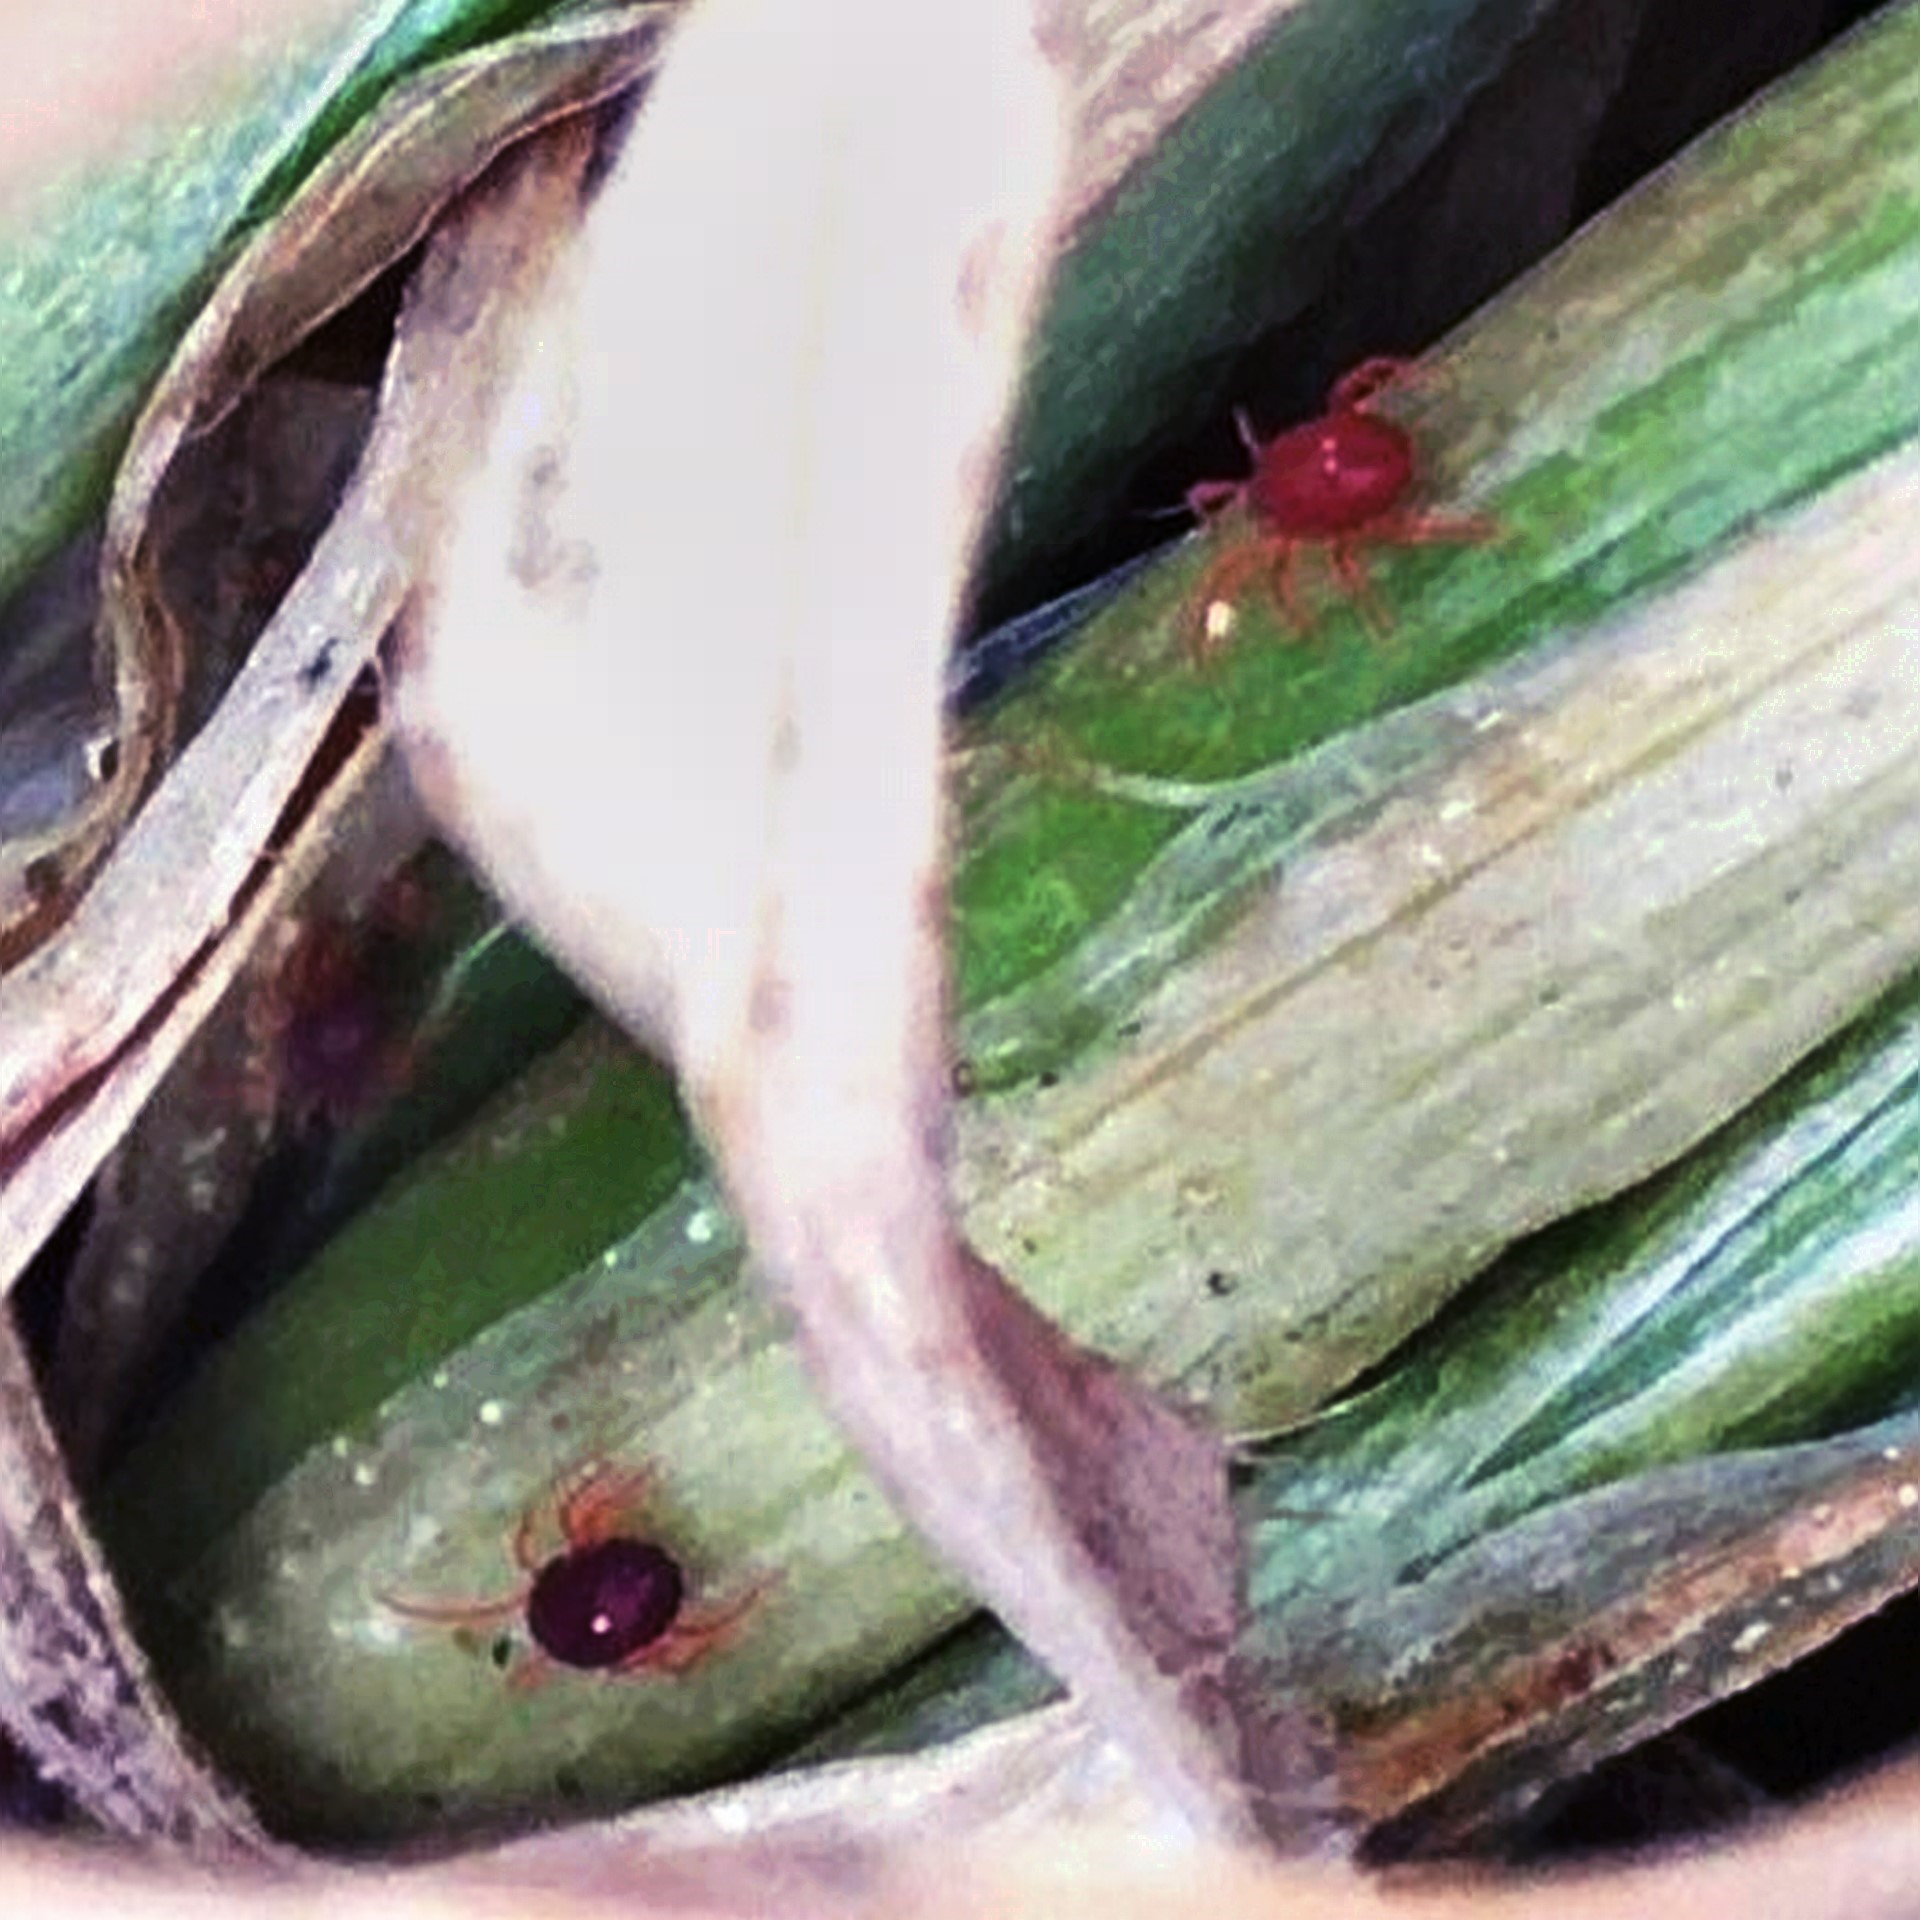Wheat Red Spider: (1111, 309, 1533, 682)
